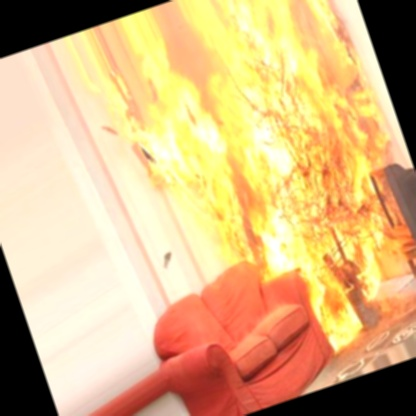fire: (81, 0, 416, 397)
